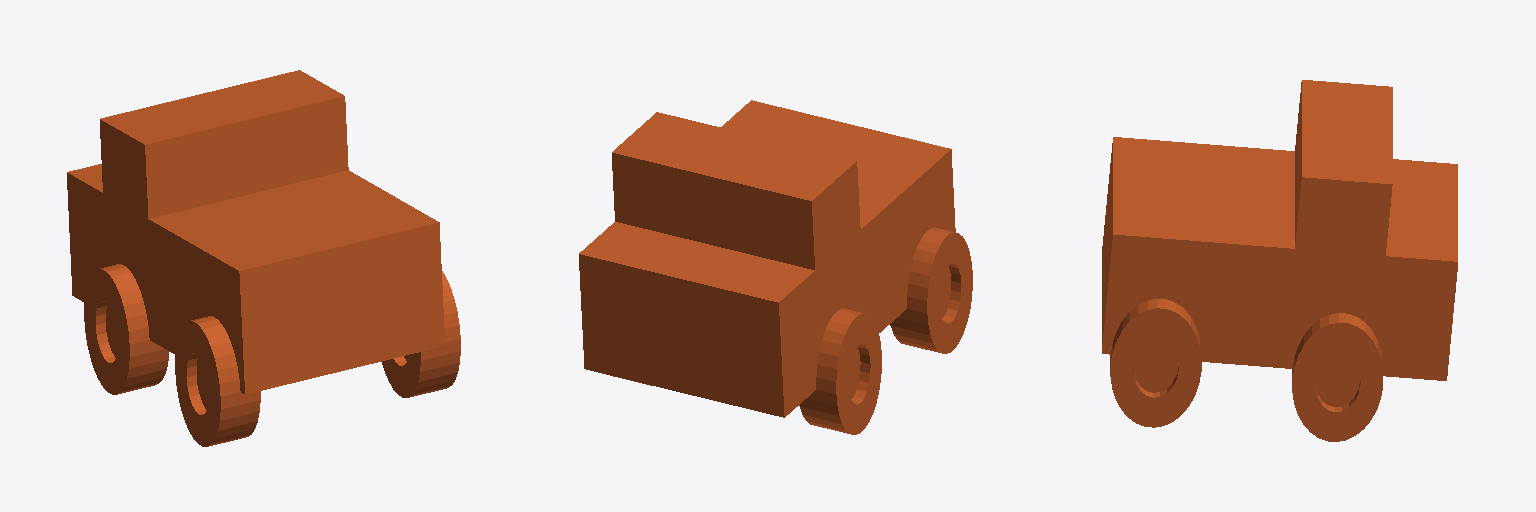
File: car.obj
3 renders of one model, left to right at view 1: azimuth 30°, elevation 25°; view 2: azimuth 150°, elevation 25°; view 3: azimuth 270°, elevation 25°, orthographic.
Bounding box in the file's own units: 0.4 × 0.406 × 0.5147.